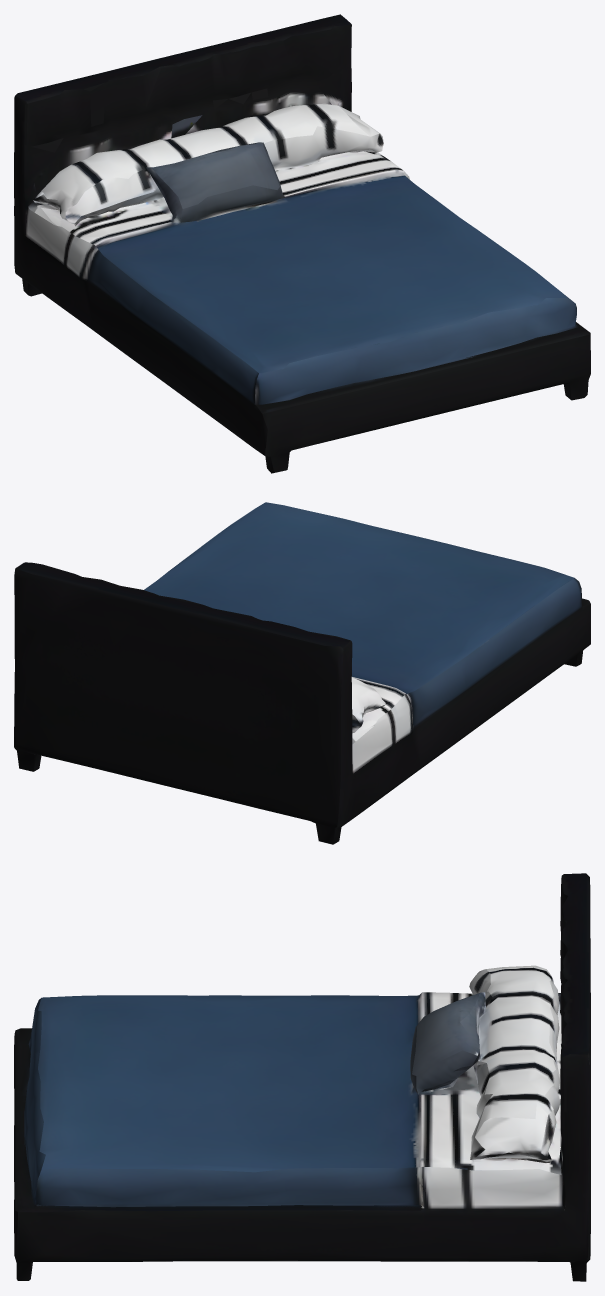
The model's file is LitDouble3_3D_textured.glb.
3 renders of one model, top to bottom at view 1: azimuth 30°, elevation 25°; view 2: azimuth 150°, elevation 25°; view 3: azimuth 270°, elevation 25°, orthographic. The views are drawn at different scales.
Parts seen in each view (by area): view 1: temp_mesh.ply; view 2: temp_mesh.ply; view 3: temp_mesh.ply.
Part boxes in pixels (left/top/right/bottom): temp_mesh.ply: left=14, top=14, right=590, bottom=473; temp_mesh.ply: left=14, top=502, right=590, bottom=844; temp_mesh.ply: left=14, top=873, right=590, bottom=1281.
Size of the model in its own units: 1.5 by 0.8674 by 1.97.
1 material, 1 textured.
